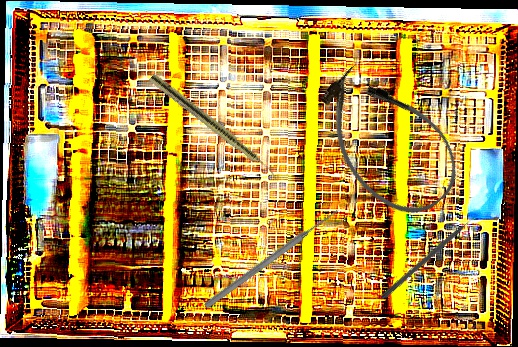Cannula: (298, 48, 477, 234)
Handpiece: (147, 72, 282, 182)
Pusher: (202, 205, 343, 311), (379, 209, 484, 302)
